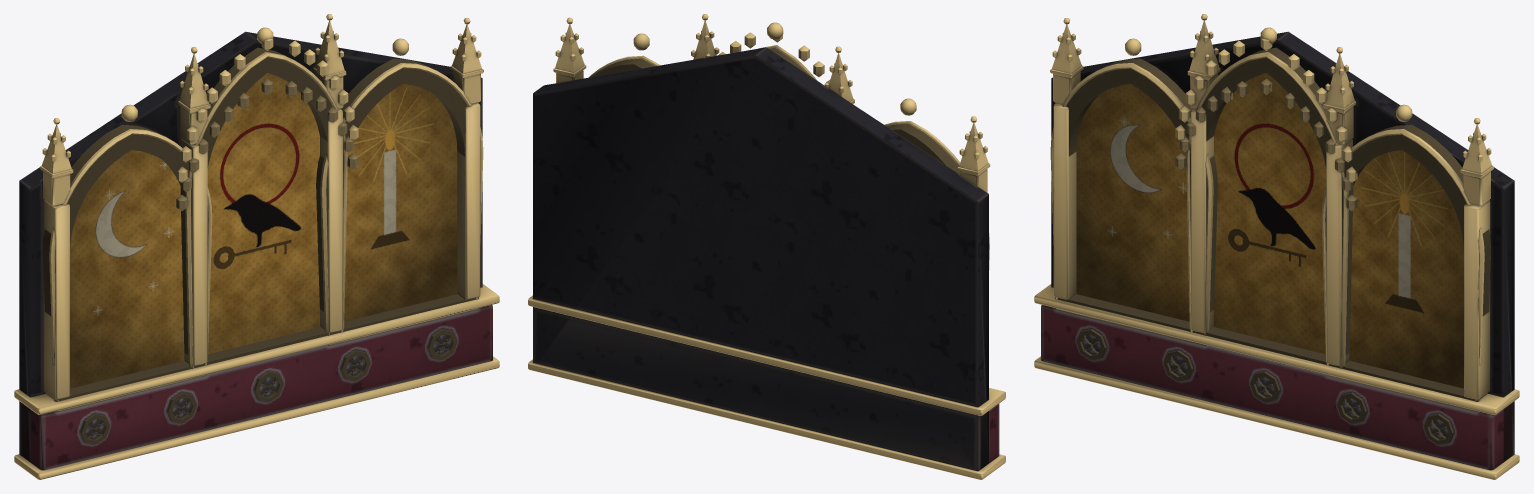
Rendered from Triptych.fbx.
3 views of the same model, side by side, from view 1: azimuth 30°, elevation 25°; view 2: azimuth 150°, elevation 25°; view 3: azimuth 330°, elevation 25° (orthographic).
Parts seen in each view (by area): view 1: Triptych_Main, Triptych_Canvas; view 2: Triptych_Main; view 3: Triptych_Main, Triptych_Canvas.
Part boxes in pixels (x1=…): Triptych_Main: x1=14, y1=14, x2=499, y2=479; Triptych_Canvas: x1=70, y1=73, x2=457, y2=388; Triptych_Main: x1=528, y1=14, x2=1005, y2=479; Triptych_Main: x1=1034, y1=14, x2=1519, y2=479; Triptych_Canvas: x1=1076, y1=73, x2=1463, y2=388.
Size of the model in its own units: 484 by 394 by 47.2.
